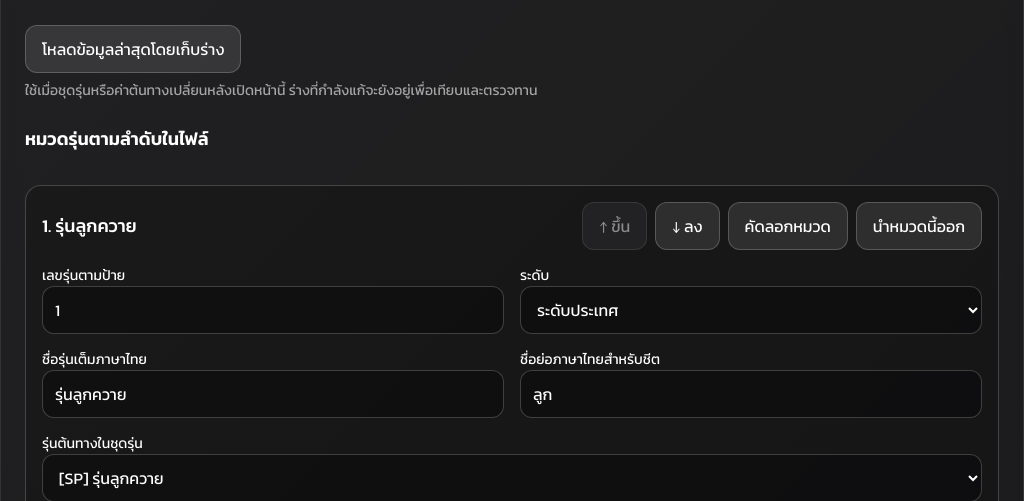
Test: reorders categories and sex/color subgroups and saves only the reviewed preview with revision guards
The width and height of the screenshot is (1024, 501).
Replace the text in the field labelled "ชื่อย่อภาษาไทยสำหรับชีต" with "ลูกน้อย" at coordinates (751, 394), box top-left (520, 370), bottom-right (982, 418)
(page scrolled)
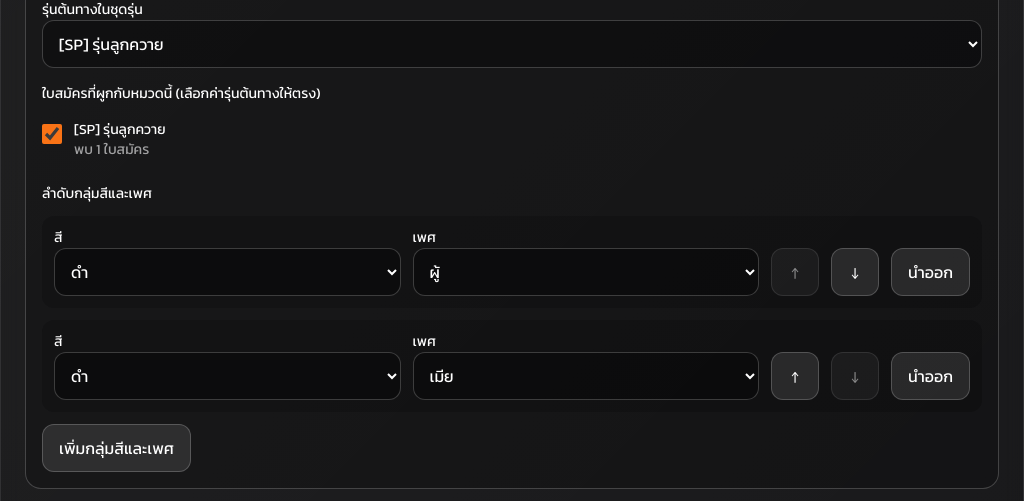
Click the button named "เลื่อนกลุ่มที่ 1 ของหมวดที่ 1 ลง" at coordinates (855, 272), box top-left (831, 248), bottom-right (879, 296)
(page scrolled)
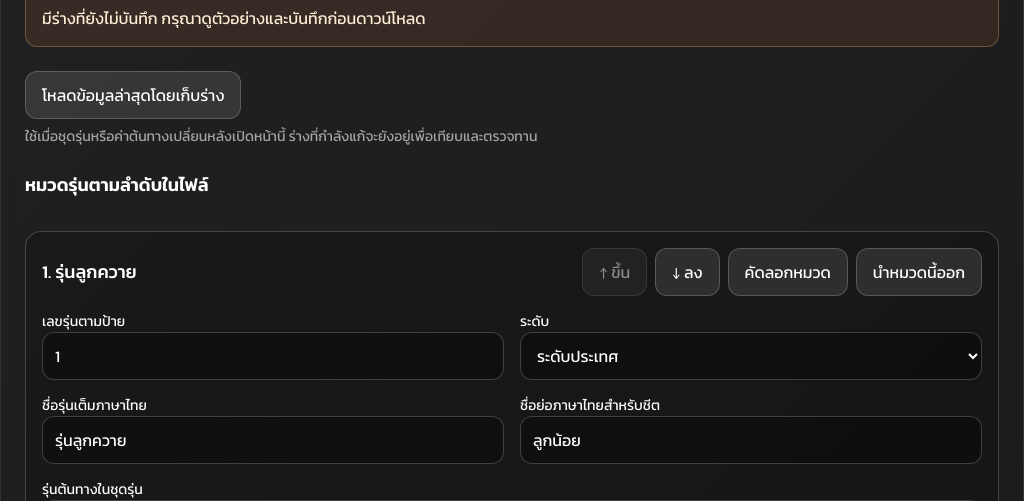
Click the button with aria-label "เลื่อนหมวดที่ 1 ลง" at coordinates (687, 272), box top-left (655, 248), bottom-right (720, 296)
(page scrolled)
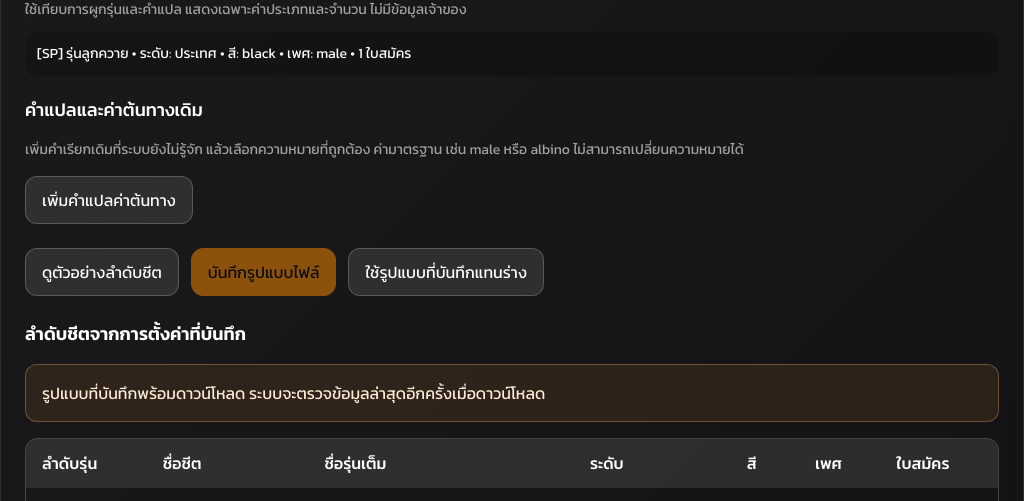
Click the button "ดูตัวอย่างลำดับชีต" at coordinates (102, 272), box top-left (25, 248), bottom-right (179, 296)
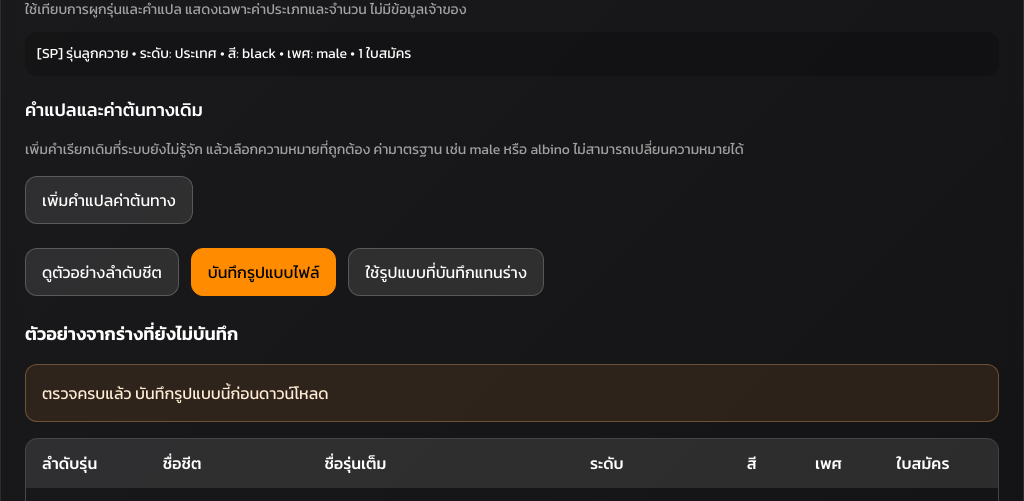
Expected: the text "ตรวจครบแล้ว บันทึกรูปแบบนี้ก่อนดาวน์โหลด" is shown, top-left (25, 364), bottom-right (999, 422)
Click the button "บันทึกรูปแบบไฟล์" at coordinates (264, 272), box top-left (191, 248), bottom-right (336, 296)
(page scrolled)
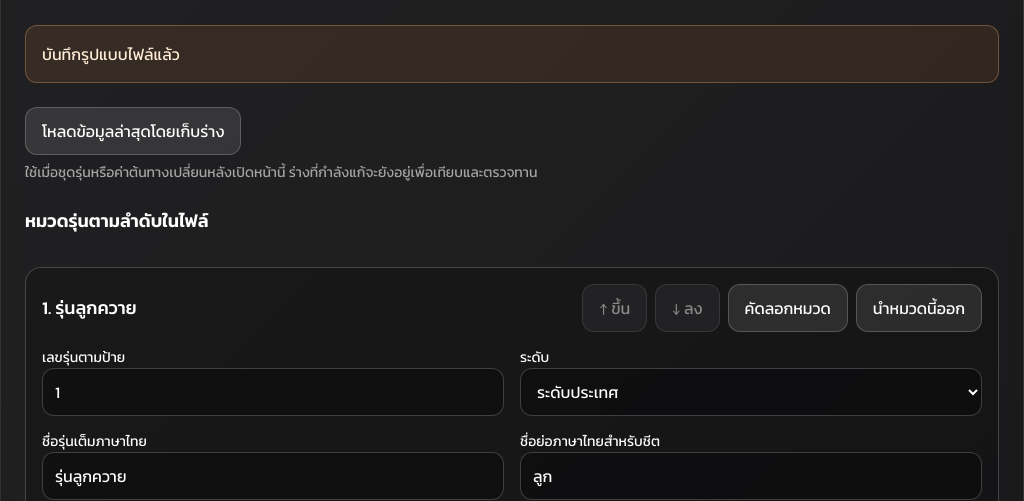
Expected: the text "บันทึกรูปแบบไฟล์แล้ว" is shown, top-left (25, 25), bottom-right (999, 83)
